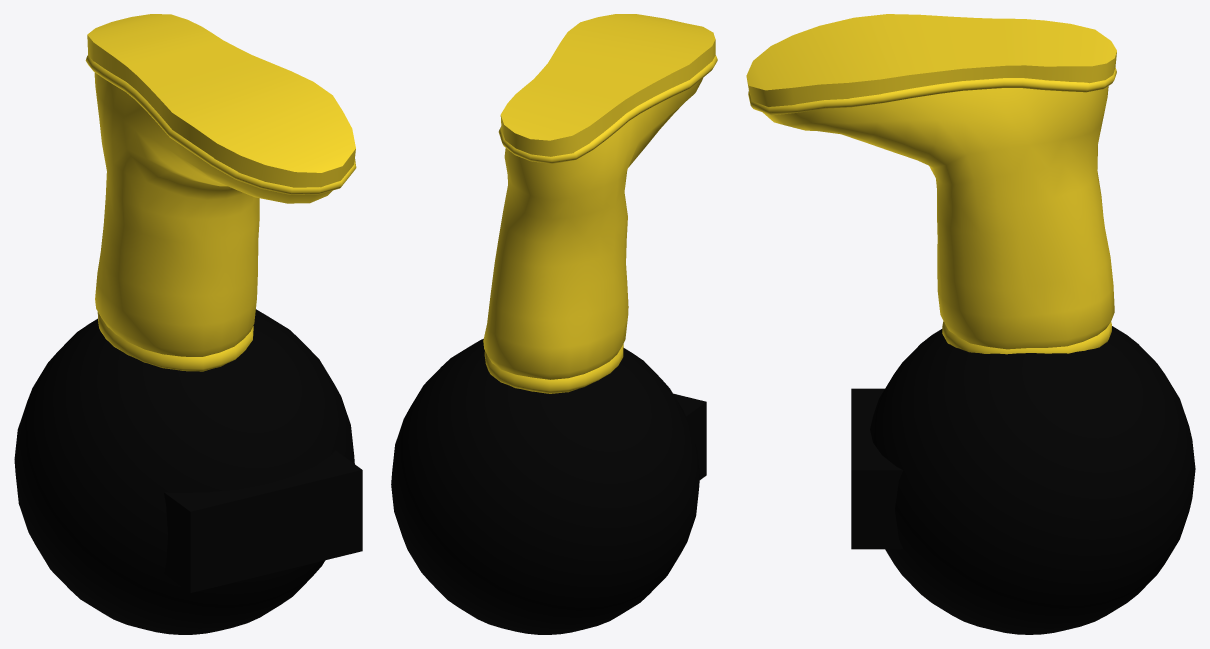
File: wear_boot.obj
3 renders of one model, left to right at view 1: azimuth 30°, elevation 25°; view 2: azimuth 150°, elevation 25°; view 3: azimuth 270°, elevation 25°, orthographic. The views are drawn at different scales.
Visible parts, largest first — view 1: wear_boot; view 2: wear_boot; view 3: wear_boot.
Part boxes in pixels (bbox=[...]): wear_boot: bbox=[14, 14, 362, 634]; wear_boot: bbox=[391, 14, 717, 634]; wear_boot: bbox=[746, 14, 1195, 634].
Bounding box in the file's own units: 2 × 3.76 × 2.7.
Materials: 1 (1 with a texture image).
